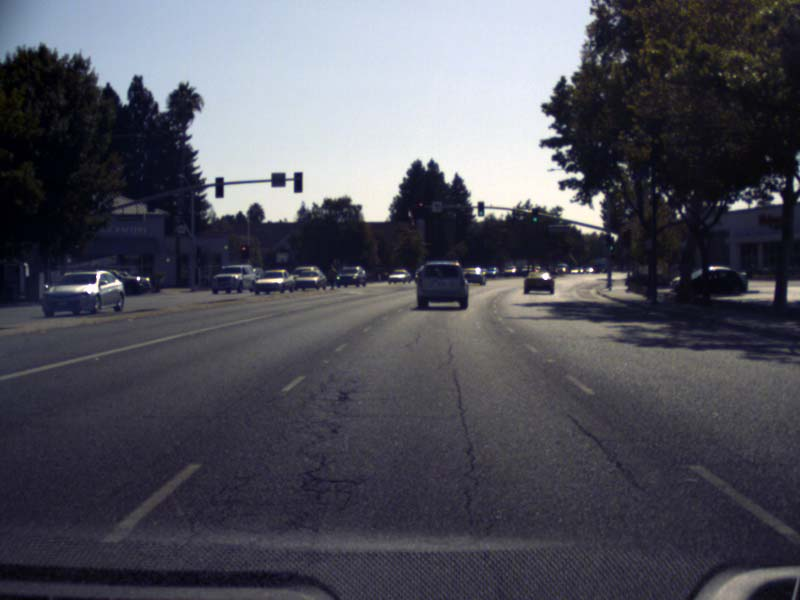Green: (531, 208, 538, 223), (607, 238, 614, 251), (478, 201, 483, 216)
Red: (240, 245, 248, 259), (417, 201, 423, 213)
